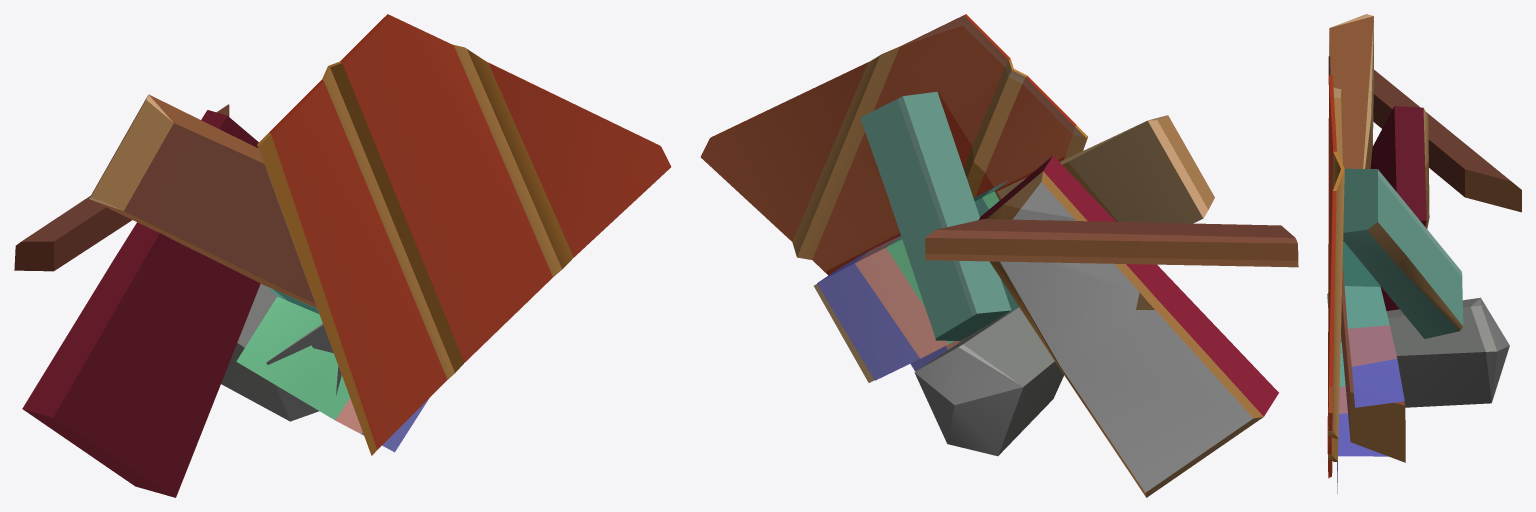
Rendered from RookieHouseRubble.fbx.
The picture shows the model from 3 angles, left to right: view 1: azimuth 30°, elevation 25°; view 2: azimuth 150°, elevation 25°; view 3: azimuth 270°, elevation 25°; orthographic projection. The views are drawn at different scales.
Parts seen in each view (by area): view 1: RookieHouseRubble; view 2: RookieHouseRubble; view 3: RookieHouseRubble.
Boxes of the visible parts, x1,y1,x2,y2 form: RookieHouseRubble: (14, 14, 671, 497); RookieHouseRubble: (700, 14, 1298, 497); RookieHouseRubble: (1327, 14, 1521, 493).
Bounding box in the file's own units: 244 × 159 × 67.28.
